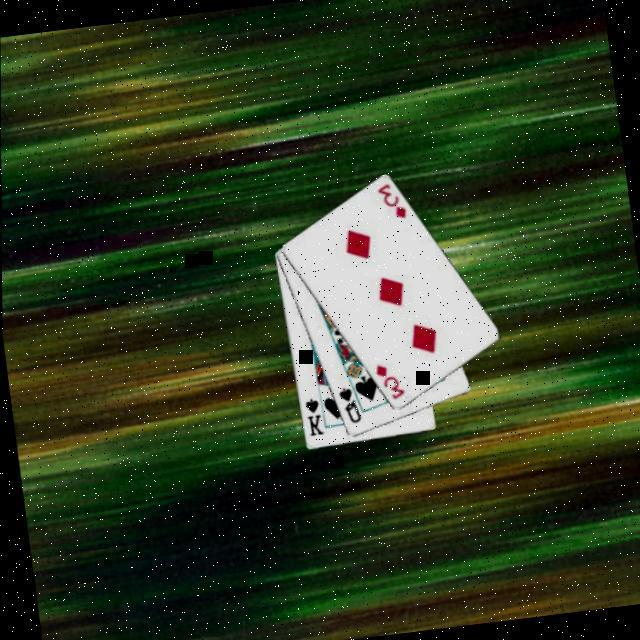3D: (369, 360, 406, 406), (371, 180, 408, 226)
KS: (300, 396, 325, 442)
QS: (333, 384, 362, 430)
